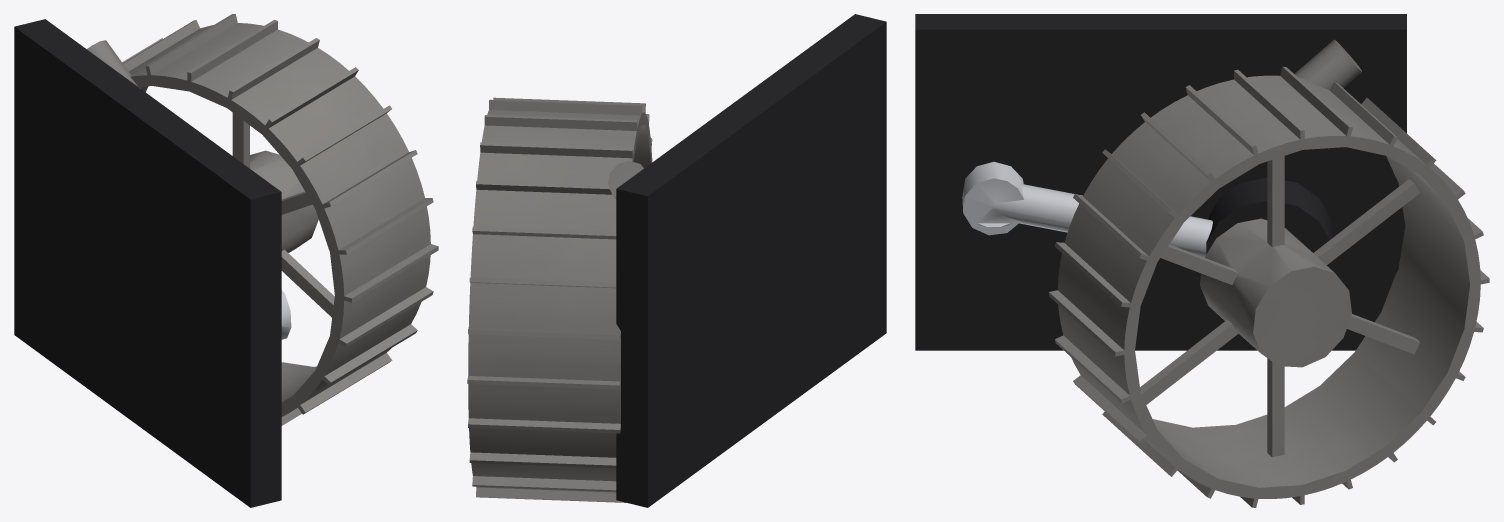
The model's file is rover04_wheel_s_steer_left.glb.
3 views of the same model, side by side, from view 1: azimuth 30°, elevation 25°; view 2: azimuth 150°, elevation 25°; view 3: azimuth 270°, elevation 25° (orthographic). The views are drawn at different scales.
Visible parts, largest first — view 1: mount_plate, wheel, damper; view 2: mount_plate, wheel, damper; view 3: wheel, mount_plate, swing_arm, hub_motor, damper.
Part boxes in pixels (left/top/right/bottom): mount_plate: left=14, top=19, right=281, bottom=507; wheel: left=122, top=14, right=438, bottom=425; damper: left=87, top=40, right=140, bottom=88; mount_plate: left=616, top=14, right=886, bottom=507; wheel: left=467, top=97, right=652, bottom=502; damper: left=608, top=160, right=643, bottom=199; wheel: left=1049, top=66, right=1489, bottom=507; mount_plate: left=915, top=14, right=1406, bottom=350; swing_arm: left=962, top=161, right=1212, bottom=257; hub_motor: left=1206, top=177, right=1332, bottom=269; damper: left=1294, top=39, right=1361, bottom=89.
Bounding box in the file's own units: 0.3473 × 0.43 × 0.5841.
Materials: 3 (2 with a texture image).
